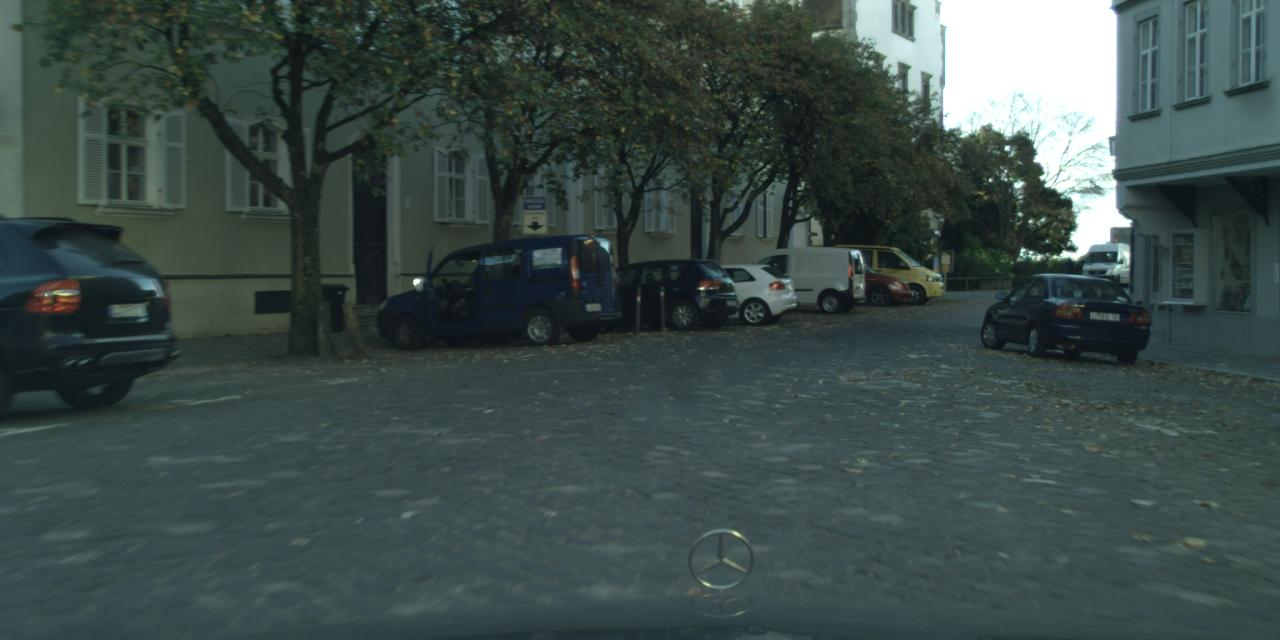ped: (1064, 258, 1073, 282)
